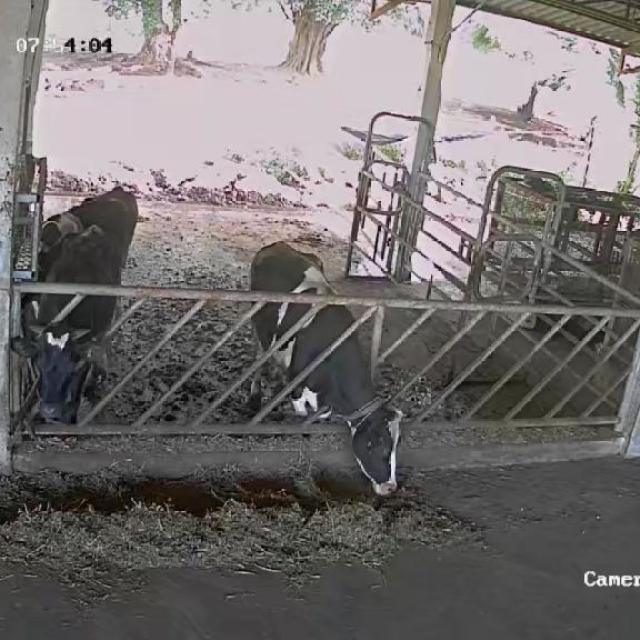feeding: (248, 242, 404, 498), (12, 225, 120, 433)
standing: (35, 186, 138, 292)
